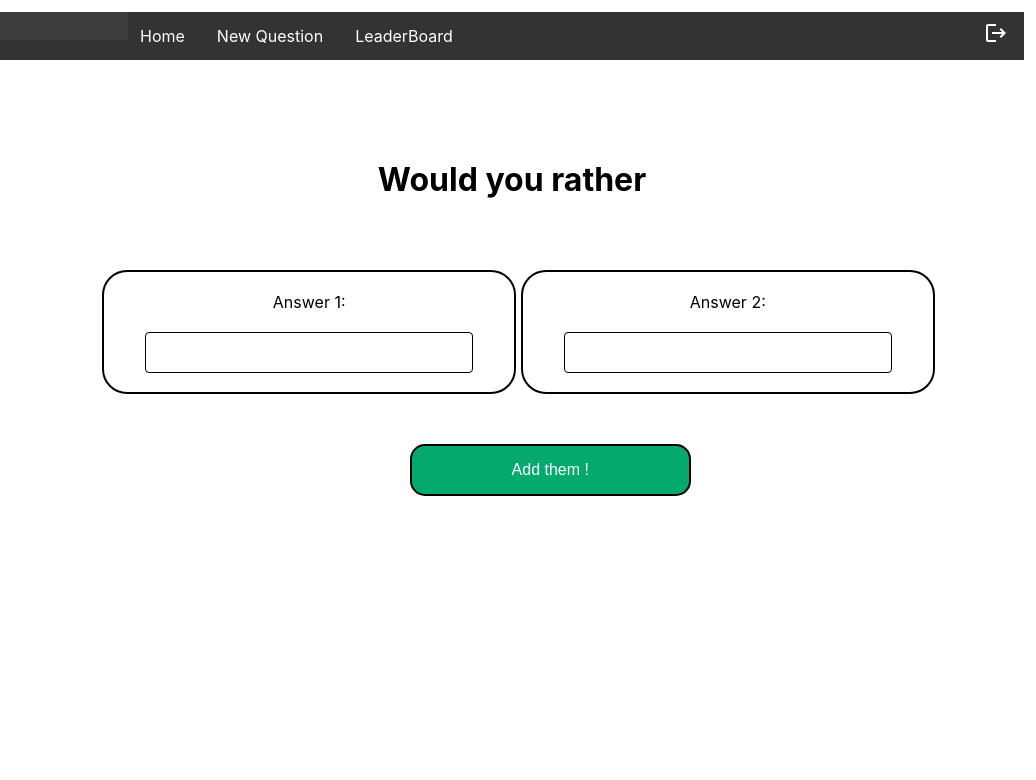
Test: QuestionAddingPage › should handle no input
The image size is (1036, 780).
Step 1. Click the button with test id "submit-button" → [550, 470], box x1=410 y1=444 x2=691 y2=496
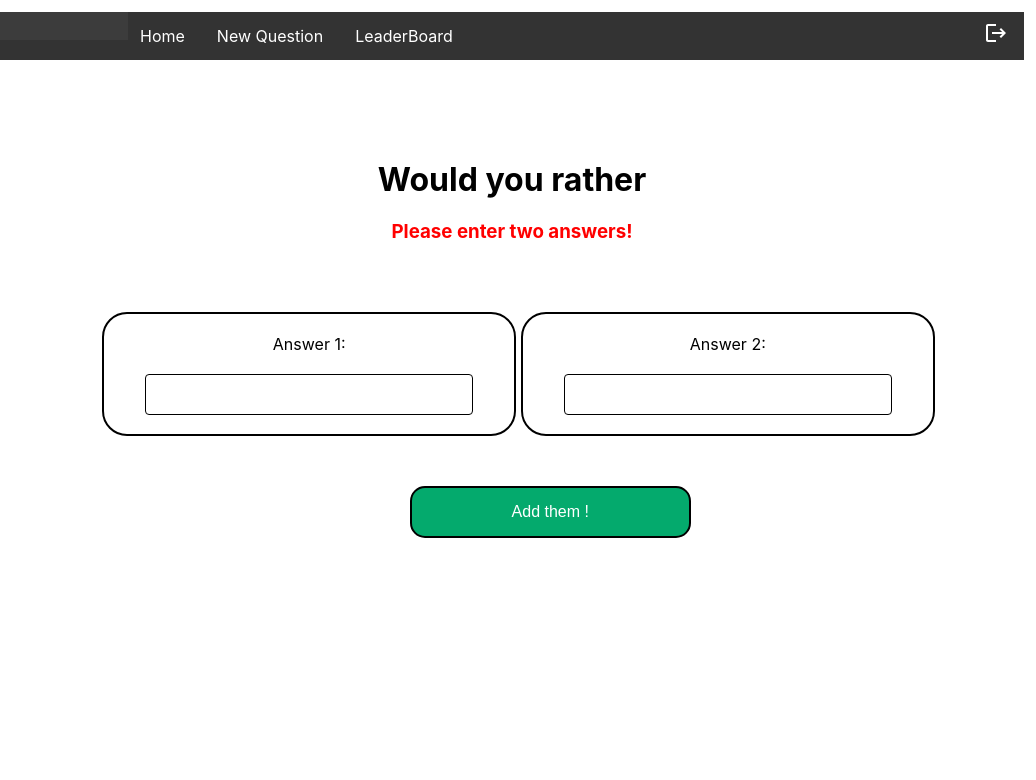
Expected: the heading "Please enter two answers!" is shown, x1=392 y1=220 x2=632 y2=243
